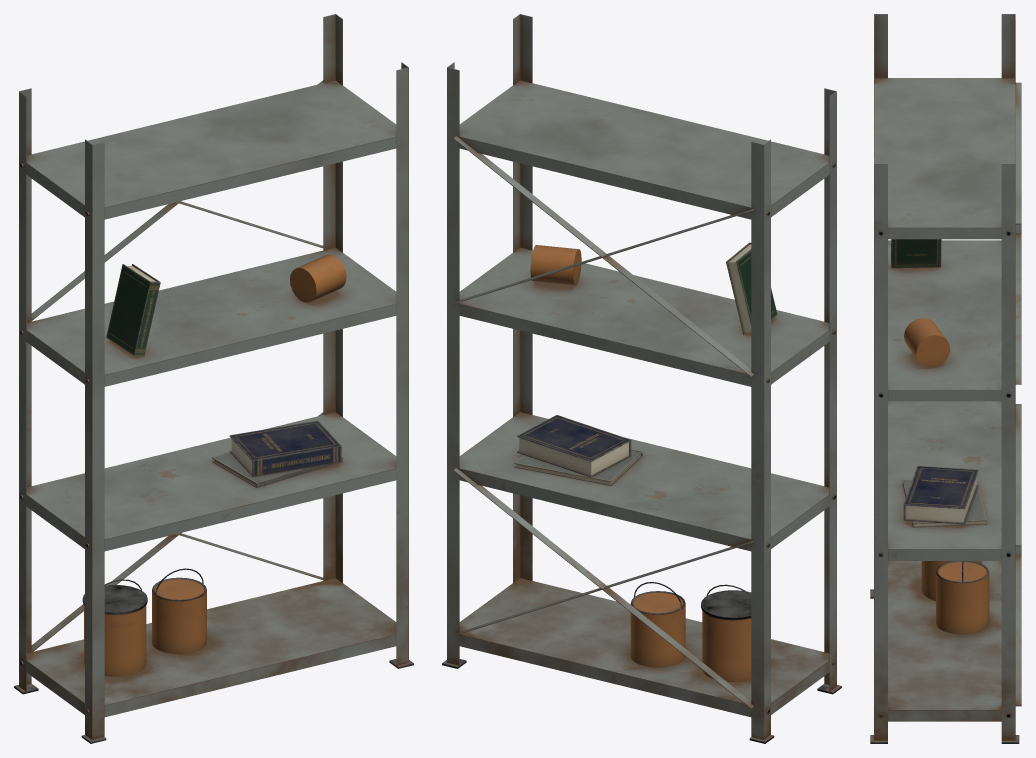
File: MetalRack.fbx
The picture shows the model from 3 angles, left to right: view 1: azimuth 30°, elevation 25°; view 2: azimuth 150°, elevation 25°; view 3: azimuth 270°, elevation 25°; orthographic projection. The views are drawn at different scales.
Parts seen in each view (by area): view 1: MetalRack_Mesh; view 2: MetalRack_Mesh; view 3: MetalRack_Mesh.
Boxes of the visible parts, x1,y1,x2,y2 form: MetalRack_Mesh: [14, 14, 413, 743]; MetalRack_Mesh: [442, 14, 841, 743]; MetalRack_Mesh: [870, 14, 1021, 743].
Bounding box in the file's own units: 1.02 × 1.8 × 0.4265.
